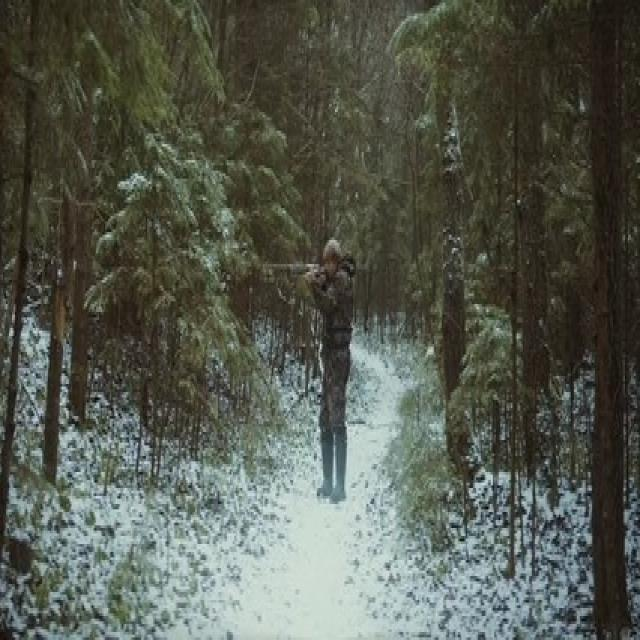Gun_Holder: (266, 258, 328, 282)
Person: (308, 235, 351, 500)
